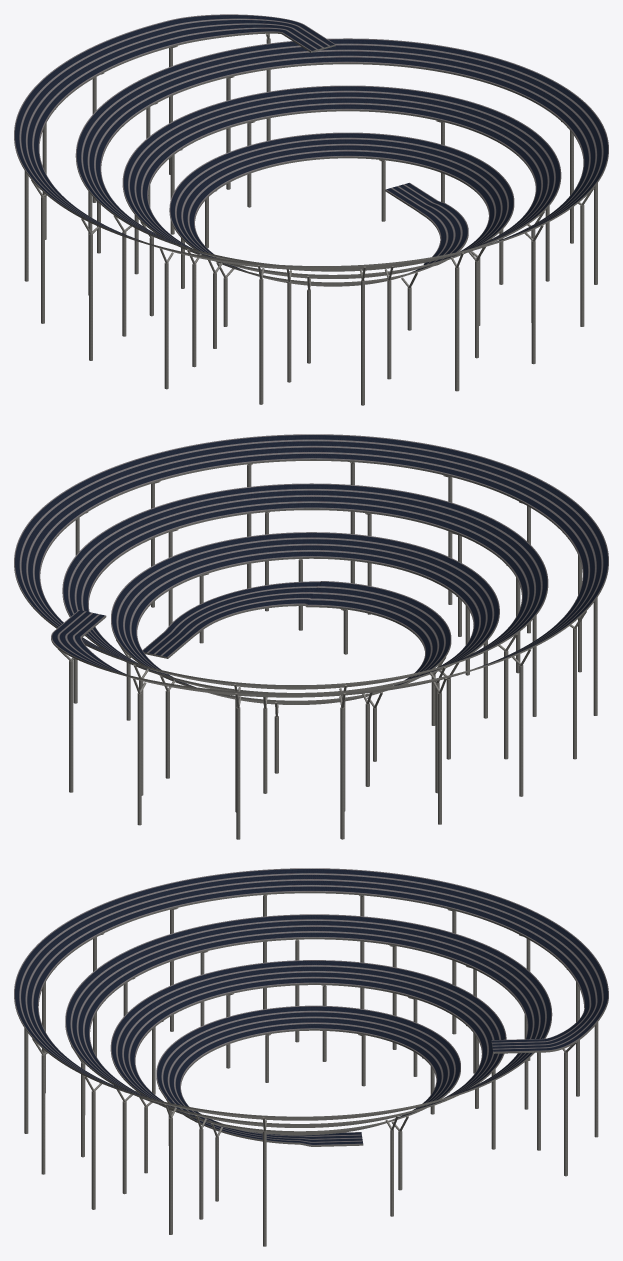
File: pista_espiral.obj
3 renders of one model, top to bottom at view 1: azimuth 30°, elevation 25°; view 2: azimuth 150°, elevation 25°; view 3: azimuth 270°, elevation 25°, orthographic. The views are drawn at different scales.
Visible parts, largest first — view 1: pista_espiral; view 2: pista_espiral; view 3: pista_espiral.
Part boxes in pixels (<box>): pista_espiral: <box>14,14,608,405</box>; pista_espiral: <box>14,434,608,839</box>; pista_espiral: <box>14,868,608,1246</box>.
Size of the model in its own units: 874 by 244 by 915.
3 materials, 3 textured.
